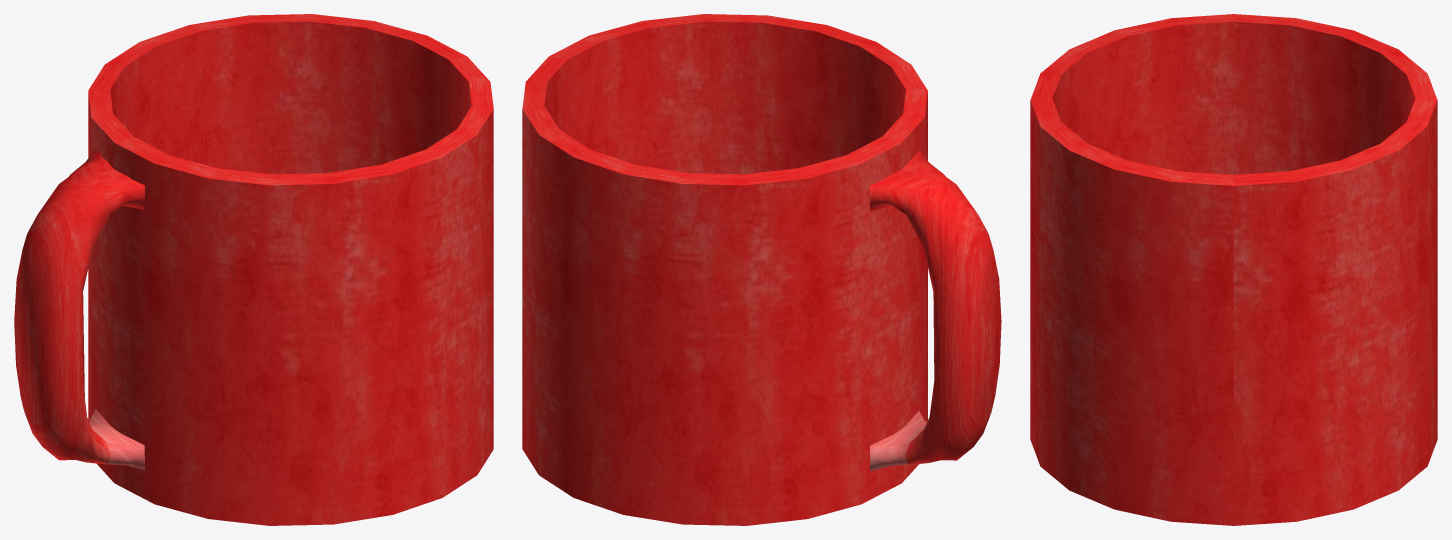
Rendered from Mug.fbx.
The picture shows the model from 3 angles, left to right: view 1: azimuth 30°, elevation 25°; view 2: azimuth 150°, elevation 25°; view 3: azimuth 270°, elevation 25°; orthographic projection.
Visible parts, largest first — view 1: polySurface9; view 2: polySurface9; view 3: polySurface9.
Part boxes in pixels (<box>): polySurface9: <box>14,14,493,525</box>; polySurface9: <box>522,14,1001,525</box>; polySurface9: <box>1030,14,1437,525</box>.
Size of the model in its own units: 0.5586 by 0.4198 by 0.4509.
1 material, 1 textured.
